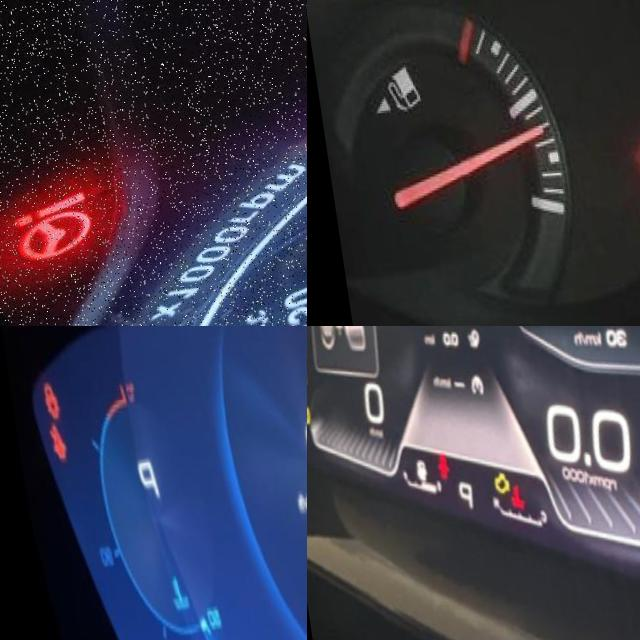Doors: (32, 377, 59, 427), (419, 449, 441, 485)
Electronic Power Steering: (0, 169, 117, 289)
Engine cooling system: (491, 484, 516, 516)
Seat Belt: (630, 148, 640, 208)
